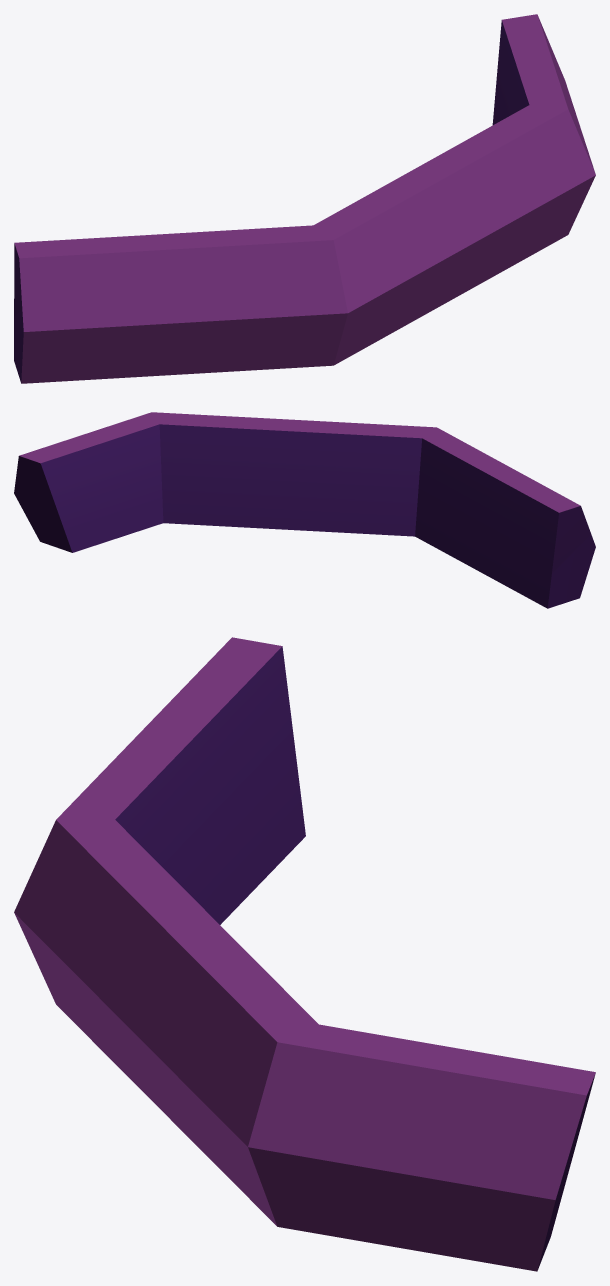
The picture shows the model from 3 angles, top to bottom: view 1: azimuth 30°, elevation 25°; view 2: azimuth 150°, elevation 25°; view 3: azimuth 270°, elevation 25°; orthographic projection. The views are drawn at different scales.
Visible parts, largest first — view 1: v_11; view 2: v_11; view 3: v_11.
Boxes of the visible parts, x1,y1,x2,y2 form: v_11: (14,14,595,383); v_11: (14,412,595,608); v_11: (14,637,595,1271).
Bounding box in the file's own units: 0.3816 × 0.069 × 0.1971.
1 material, 1 textured.
